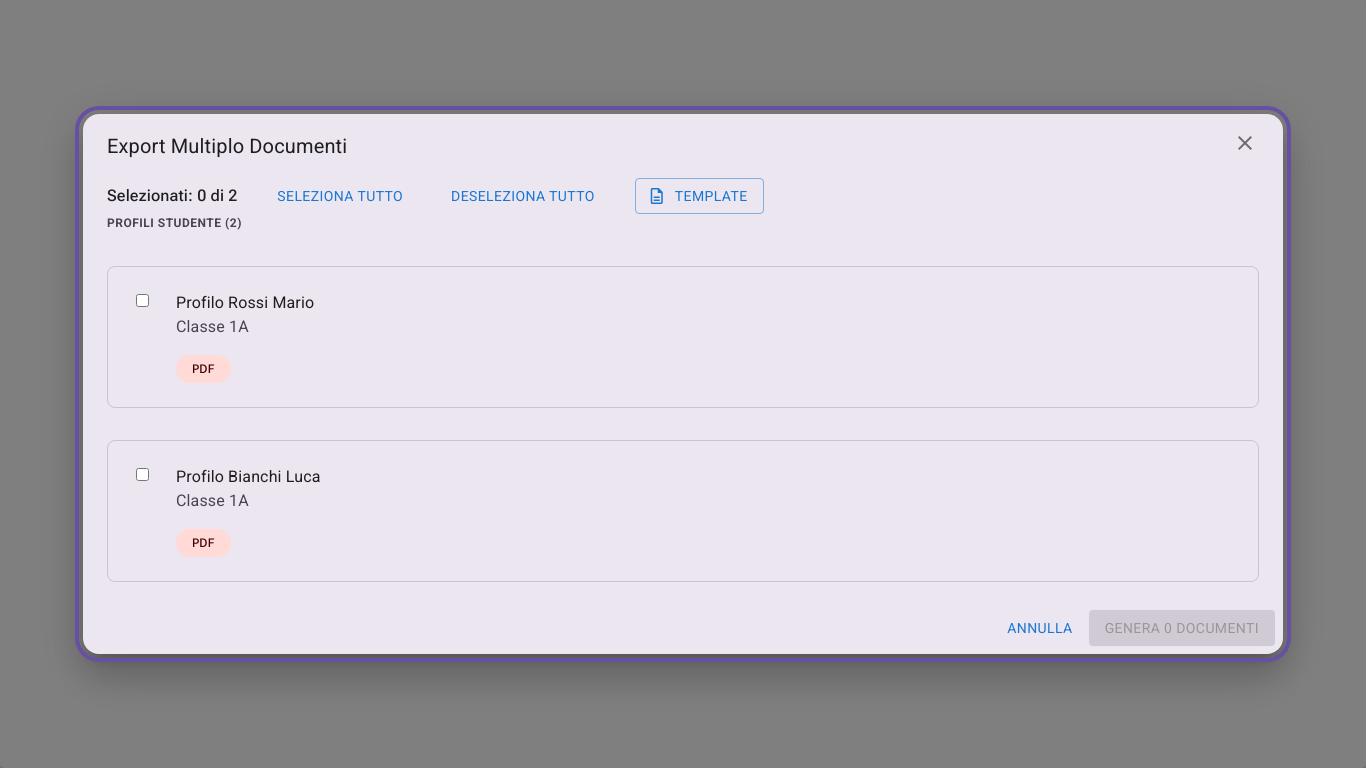
Test: BatchExportWizard › shows progress during generation
Click the button "Seleziona Tutto". click: (340, 196)
box: x1=269 y1=178 x2=411 y2=214
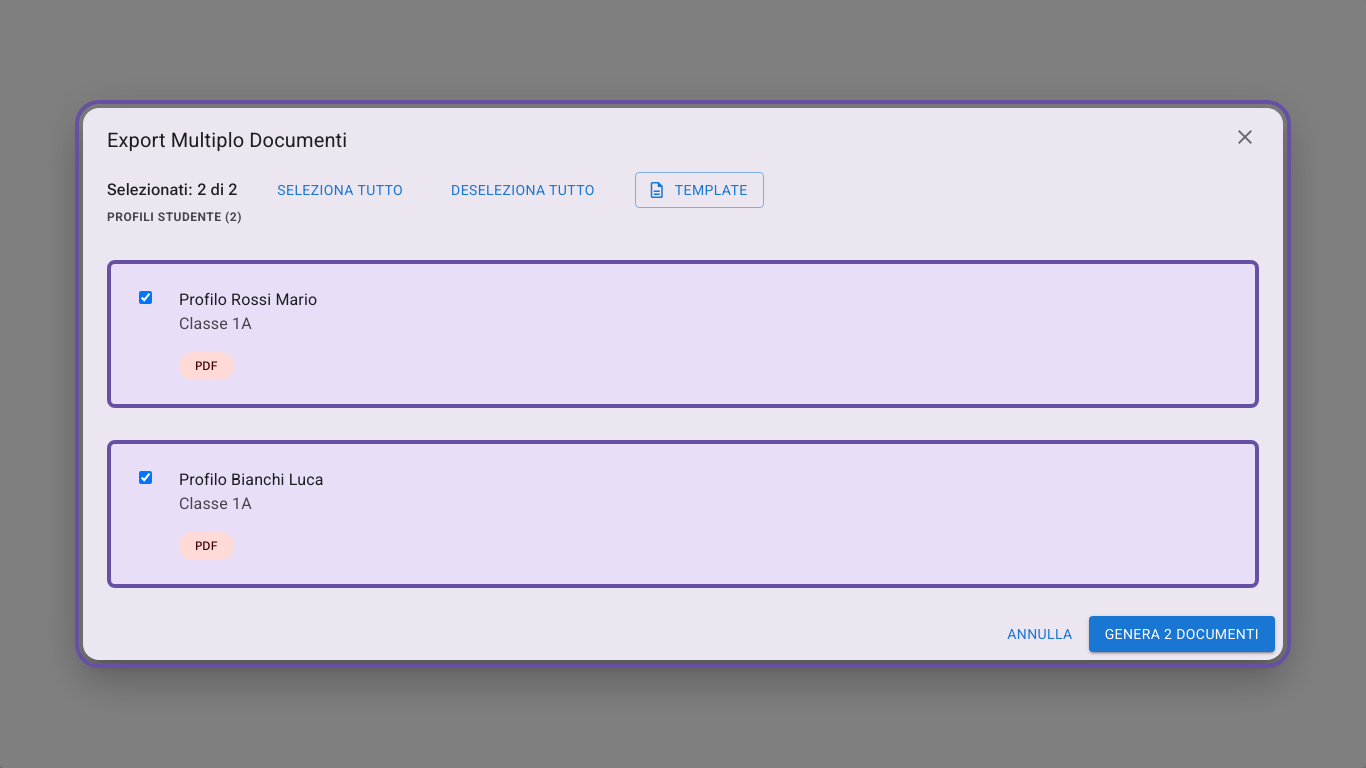
Click the button "Genera 2 Documenti". click: (1182, 634)
box: x1=1089 y1=616 x2=1275 y2=652
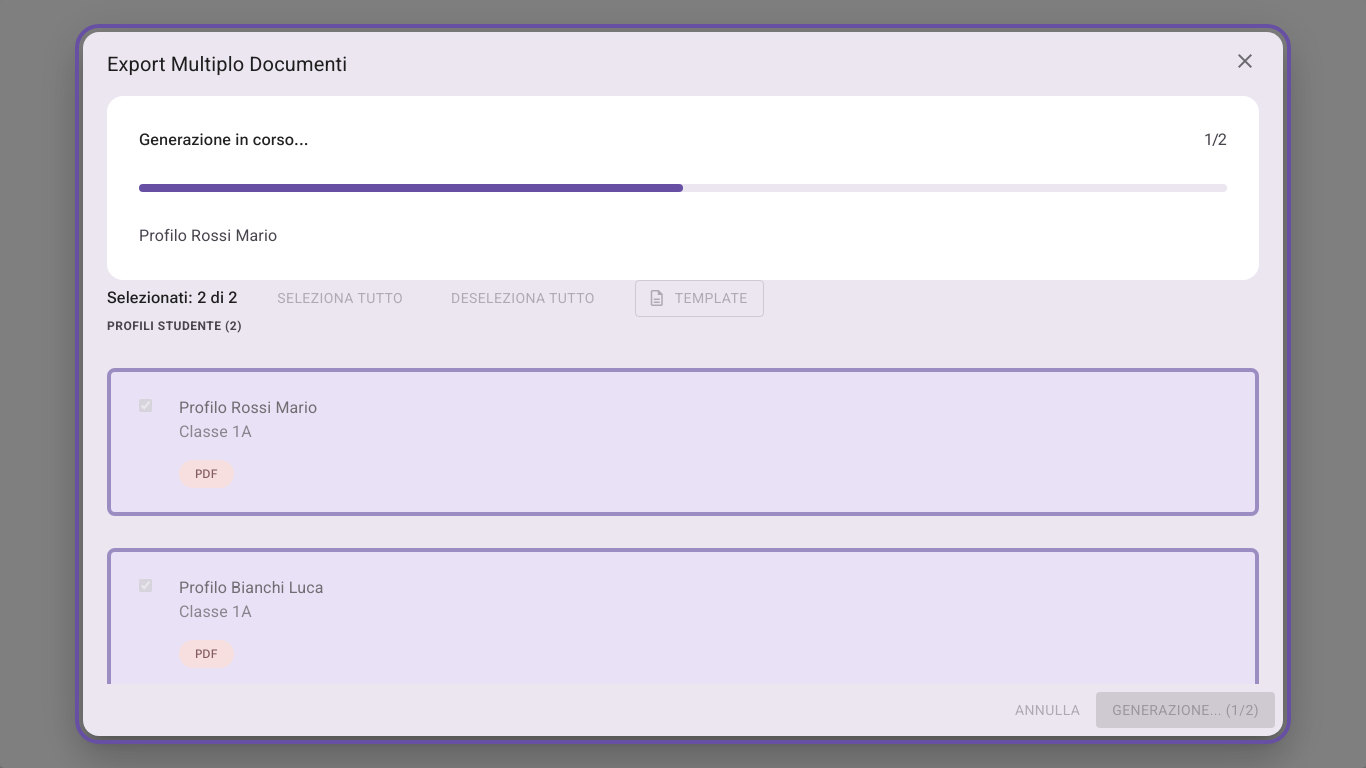
expect the text "Generazione in corso..." is shown: met, box x1=139 y1=128 x2=309 y2=152
